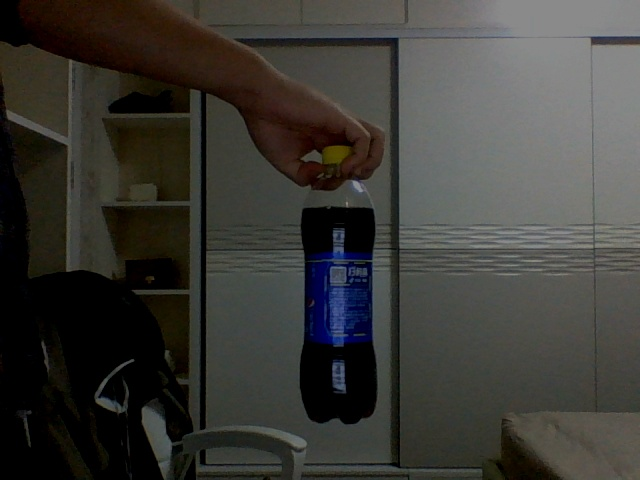Cola: (299, 146, 379, 424)
